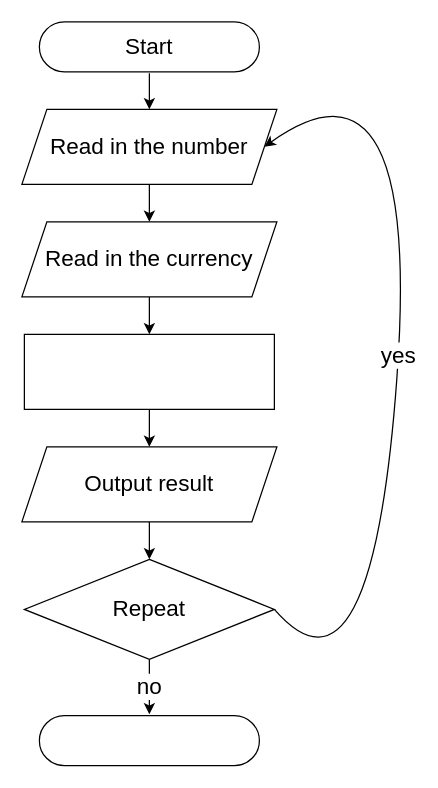
This 438x788 diagram has some shape labels left out. The shapes that lost their labels are listed below. From the top down, each one's centre as x and y in pixels, then its label:
(x=148, y=371): Conversion number * exchange rate
(x=148, y=740): End
